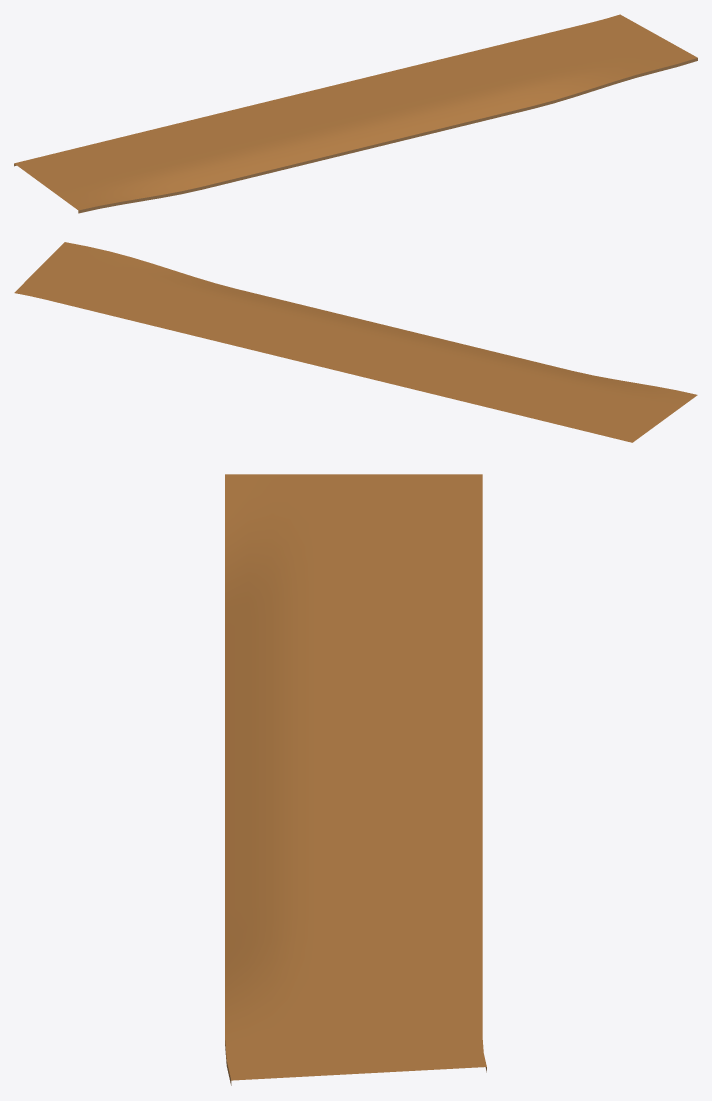
The model's file is sink-board.glb.
3 renders of one model, top to bottom at view 1: azimuth 30°, elevation 25°; view 2: azimuth 150°, elevation 25°; view 3: azimuth 270°, elevation 25°, orthographic. The views are drawn at different scales.
Parts seen in each view (by area): view 1: wood, edge; view 2: wood; view 3: wood.
Part boxes in pixels (box(x1,y1,x2,y2)): wood: box(14, 14, 697, 210); edge: box(14, 58, 697, 213); wood: box(14, 242, 697, 442); wood: box(225, 474, 486, 1080).
Size of the model in its own units: 30.07 by 0.4363 by 5.49.
